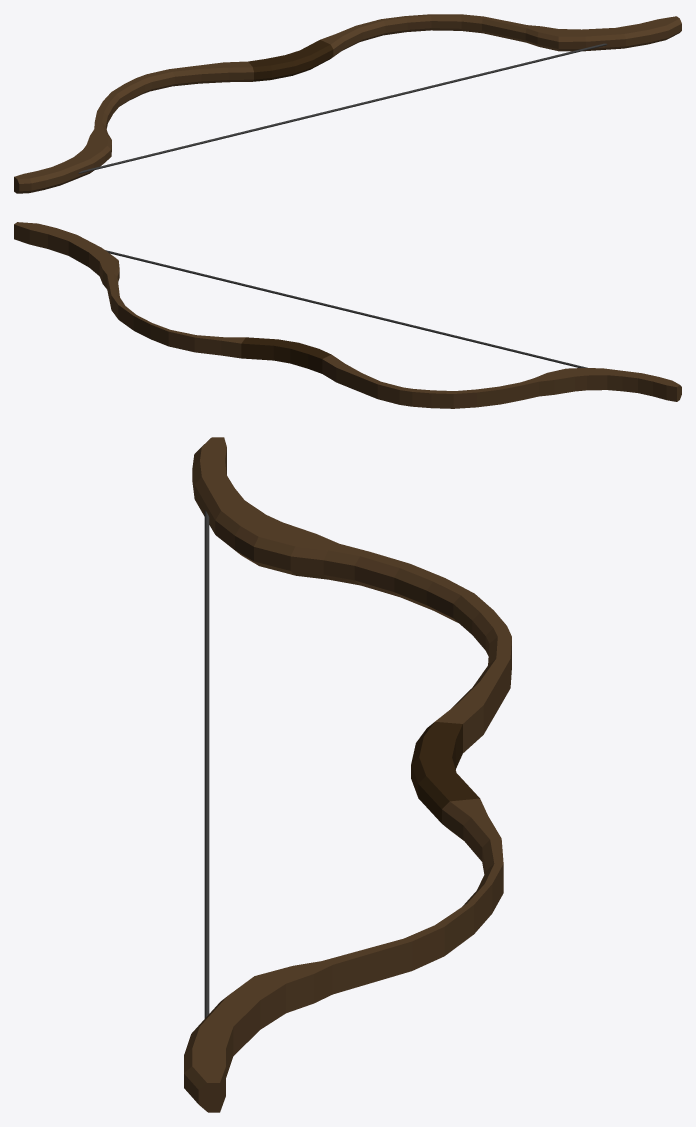
File: Bow_01.fbx
3 renders of one model, top to bottom at view 1: azimuth 30°, elevation 25°; view 2: azimuth 150°, elevation 25°; view 3: azimuth 270°, elevation 25°, orthographic. The views are drawn at different scales.
Visible parts, largest first — view 1: Bow_01; view 2: Bow_01; view 3: Bow_01.
Part boxes in pixels (bbox=[...]): Bow_01: bbox=[14, 14, 681, 193]; Bow_01: bbox=[14, 222, 681, 408]; Bow_01: bbox=[184, 437, 511, 1112].
Size of the model in its own units: 241 by 5.15 by 51.71.
